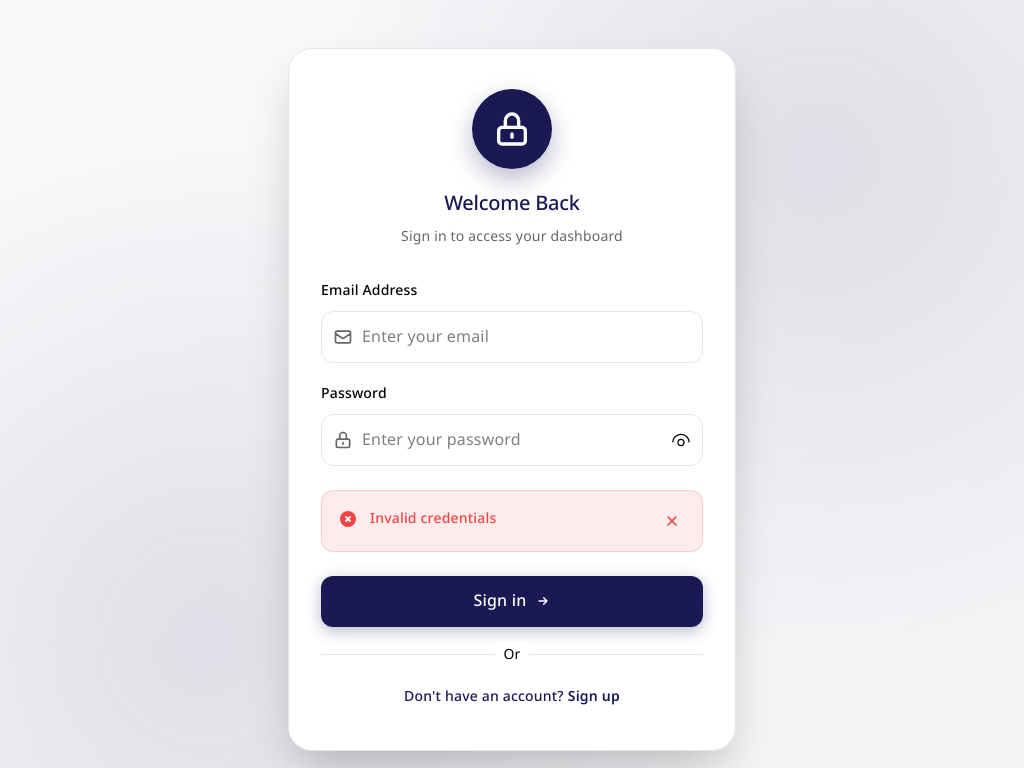
it: LoginForm Component › should allow clearing error message
Click the button named "dismiss" in the row of "Invalid credentials".
click(672, 521)  # box [658,507,686,535]
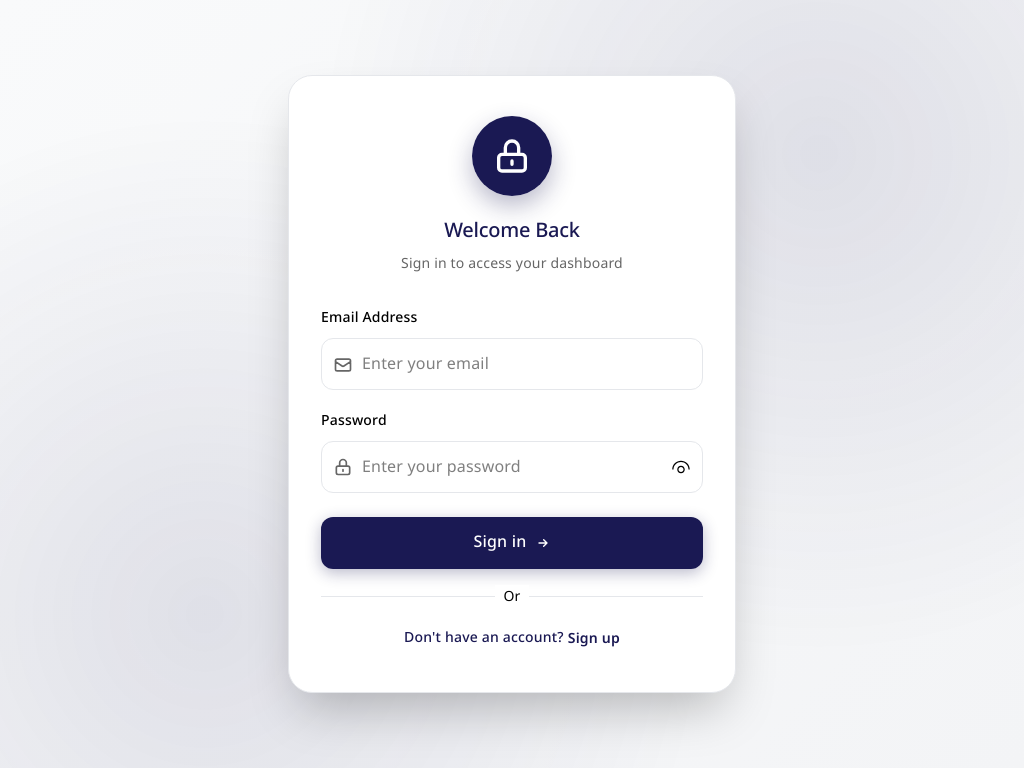
Now the text "Invalid credentials" is gone
